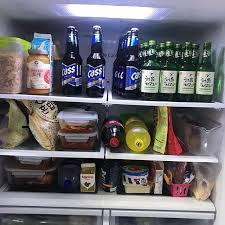soju: (135, 39, 217, 100)
